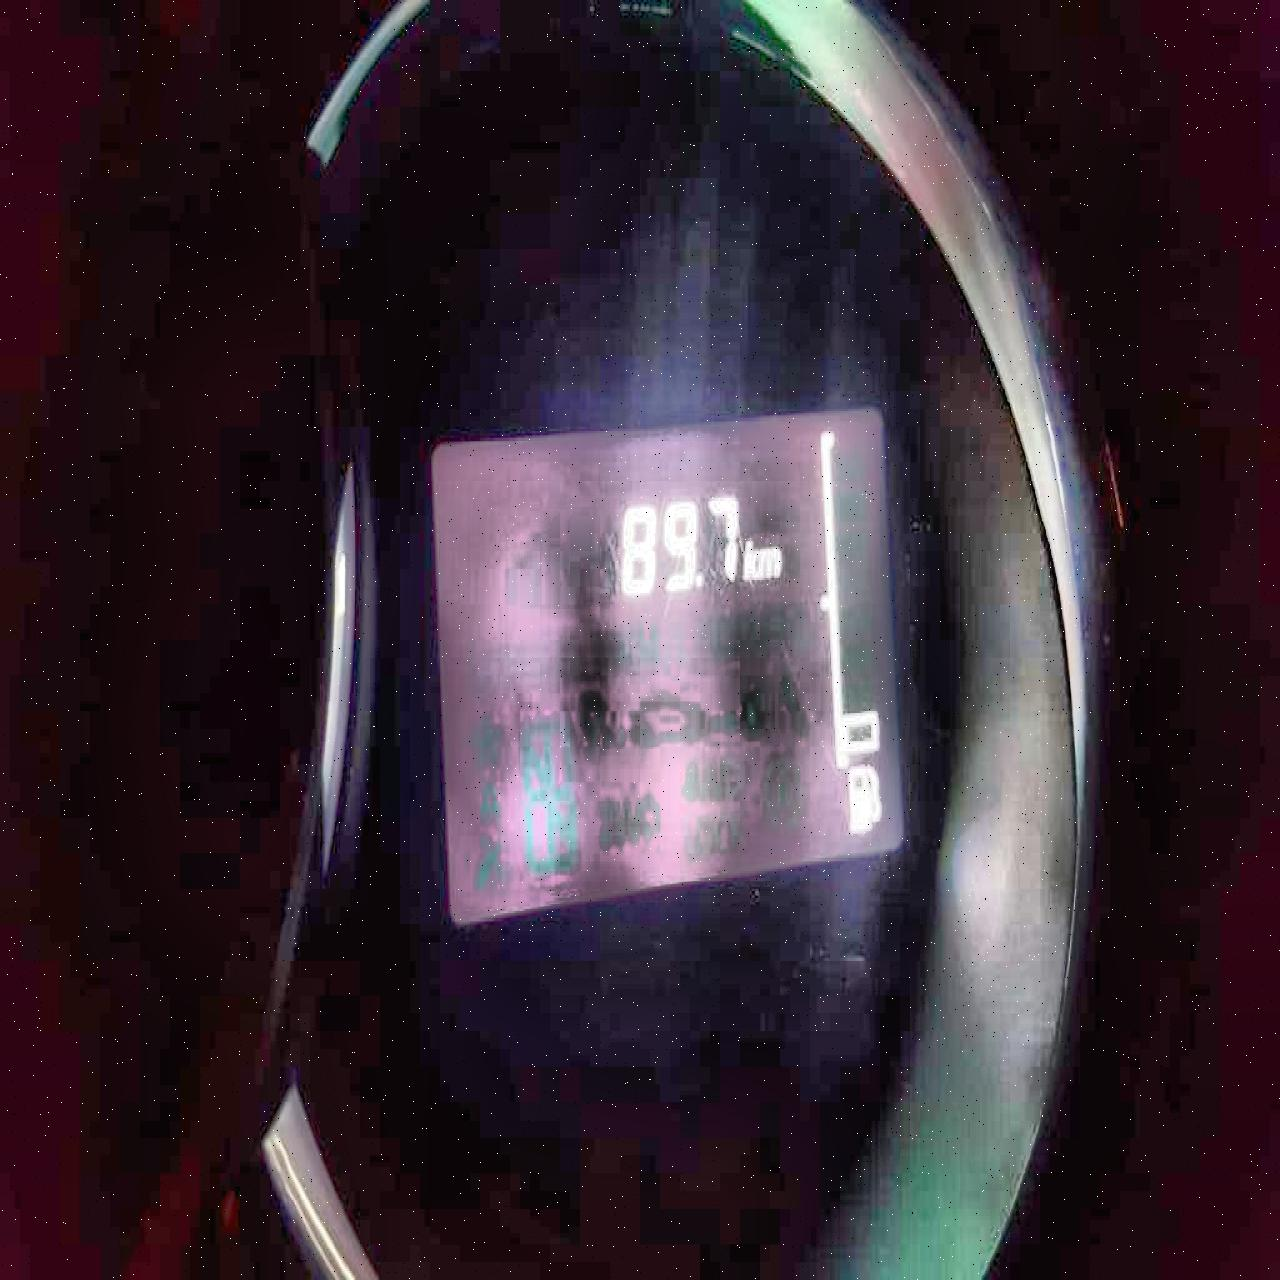-: (695, 571, 703, 587)
7: (704, 493, 738, 583)
8: (619, 501, 656, 598)
9: (660, 496, 697, 593)
X: (756, 544, 782, 580), (742, 536, 757, 580)
odometer: (424, 397, 907, 933)
